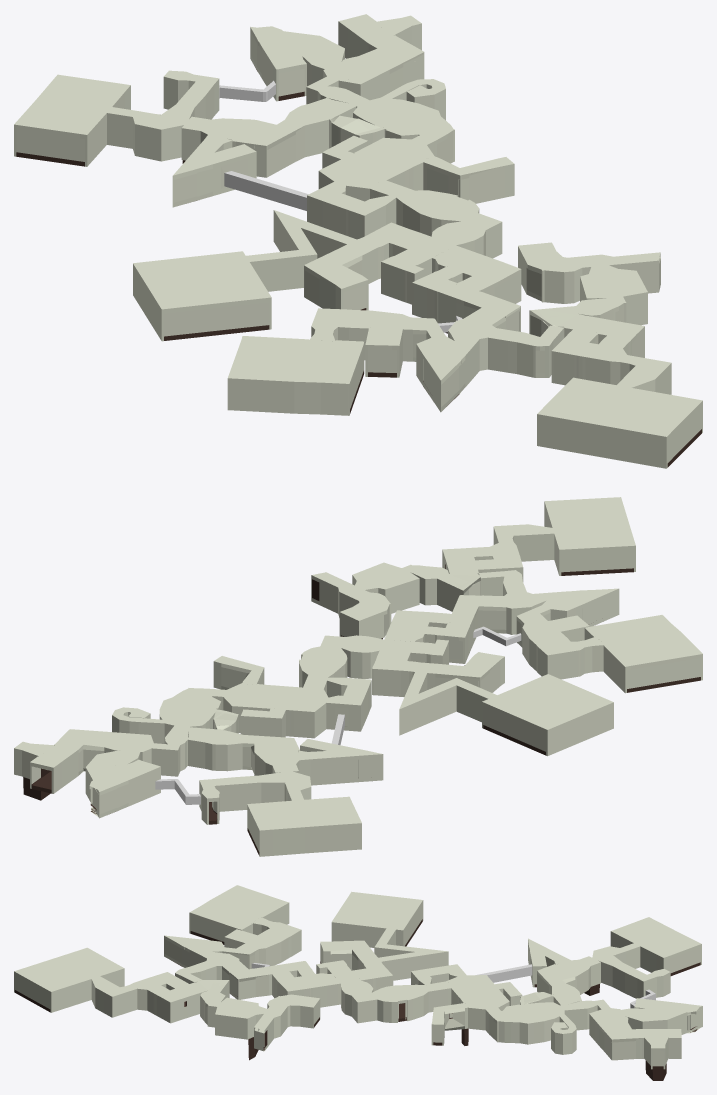
File: house_maze.fbx
The picture shows the model from 3 angles, top to bottom: view 1: azimuth 30°, elevation 25°; view 2: azimuth 150°, elevation 25°; view 3: azimuth 270°, elevation 25°; orthographic projection. The views are drawn at different scales.
Visible parts, largest first — view 1: Room .003, Room .001, Room, Room .002, Hallway_Corner_35Deg.011, Hallway_Corner_35Deg.002, Hallway_Corner.007, Hallway_Corner_35Deg.001, Hallway_Corner.011, Hallway_Corner_110Deg.003, Hallway_Corner_110Deg.002, Hallway_T.008 (+50 smaller); view 2: Room .001, Room .003, Room, Room .002, Hallway_Corner_35Deg.001, Hallway_Corner_35Deg.002, Hallway_Corner.007, Hallway_Corner_35Deg.011, Hallway_Corner.019, Hallway_Deep.003, Hallway_Corner_35Deg.004, Hallway_T.011 (+43 smaller); view 3: Room .003, Room .001, Room, Room .002, Hallway_Corner.007, Hallway_Corner_35Deg.001, Hallway_Corner.012, Hallway_Corner_110Deg.001, Hallway_Corner_35Deg.011, Hallway_Corner_110Deg.006, Hallway_Corner.010, Hallway_Corner_35Deg.004 (+52 smaller).
Part boxes in pixels (x1,y1,x2,y2): Room .003: [537, 374, 702, 468]; Room .001: [133, 251, 276, 341]; Room: [227, 334, 364, 415]; Room .002: [14, 74, 137, 166]; Hallway_Corner_35Deg.011: [416, 333, 479, 412]; Hallway_Corner_35Deg.002: [172, 140, 247, 207]; Hallway_Corner.007: [580, 270, 647, 325]; Hallway_Corner_35Deg.001: [250, 26, 344, 86]; Hallway_Corner.011: [520, 247, 582, 303]; Hallway_Corner_110Deg.003: [427, 157, 504, 203]; Hallway_Corner_110Deg.002: [236, 120, 304, 177]; Hallway_T.008: [135, 104, 194, 161]; Room .001: [472, 674, 613, 756]; Room .003: [528, 497, 635, 575]; Room: [584, 615, 702, 693]; Room .002: [247, 790, 361, 856]; Hallway_Corner_35Deg.001: [85, 754, 152, 818]; Hallway_Corner_35Deg.002: [308, 740, 383, 785]; Hallway_Corner.007: [353, 562, 447, 613]; Hallway_Corner_35Deg.011: [533, 588, 619, 626]; Hallway_Corner.019: [533, 635, 592, 679]; Hallway_Deep.003: [22, 743, 78, 800]; Hallway_Corner_35Deg.004: [399, 681, 446, 735]; Hallway_T.011: [290, 686, 328, 738]; Room .003: [14, 947, 124, 1012]; Room .001: [331, 891, 423, 947]; Room: [189, 885, 289, 944]; Room .002: [610, 917, 701, 975]; Hallway_Corner.007: [200, 993, 258, 1039]; Hallway_Corner_35Deg.001: [632, 999, 702, 1034]; Hallway_Corner.012: [342, 985, 391, 1023]; Hallway_Corner_110Deg.001: [599, 1022, 641, 1060]; Hallway_Corner_35Deg.011: [164, 935, 224, 967]; Hallway_Corner_110Deg.006: [222, 961, 268, 999]; Hallway_Corner.010: [95, 982, 137, 1017]; Hallway_Corner_35Deg.004: [395, 945, 448, 979].
Bounding box in the file's own units: 117 × 14.76 × 209.
